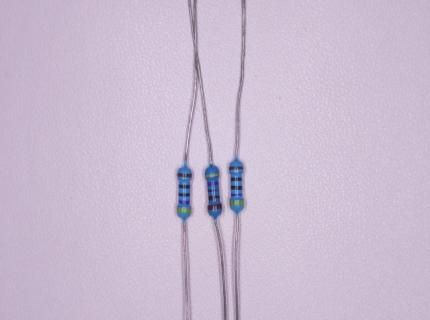Black band: (208, 195, 220, 201), (230, 185, 242, 190), (178, 184, 190, 189), (178, 193, 190, 198), (207, 189, 219, 194), (230, 177, 242, 181)
Brown band: (207, 204, 223, 212), (177, 172, 191, 178), (229, 165, 243, 170)
Violet band: (208, 181, 219, 187), (178, 200, 190, 205), (231, 193, 243, 197)
Yellow band: (177, 207, 192, 213), (229, 201, 244, 206), (205, 173, 220, 178)
